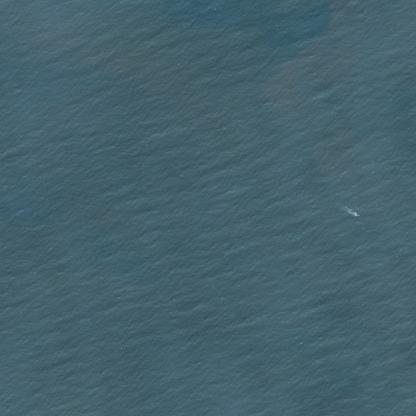ship: (350, 210, 362, 217)
